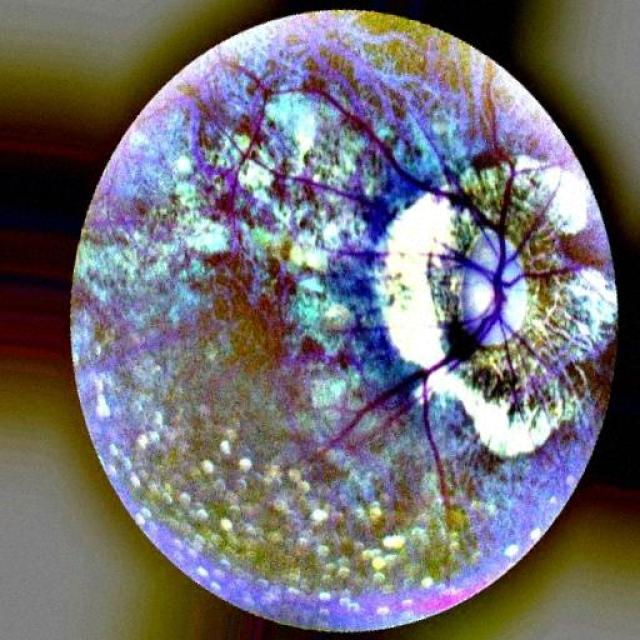Macula: (195, 242, 294, 374)
Nerves: (315, 90, 579, 502), (231, 129, 380, 206)
Optic Disk: (372, 155, 615, 458)
